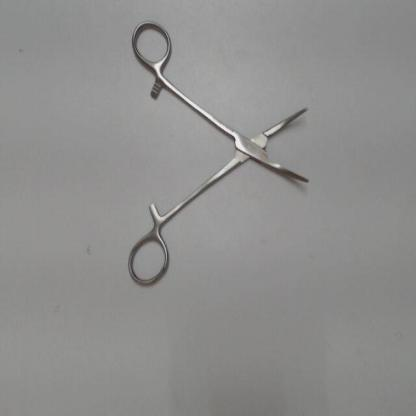Crile Artery Forceps: (124, 15, 318, 296)
